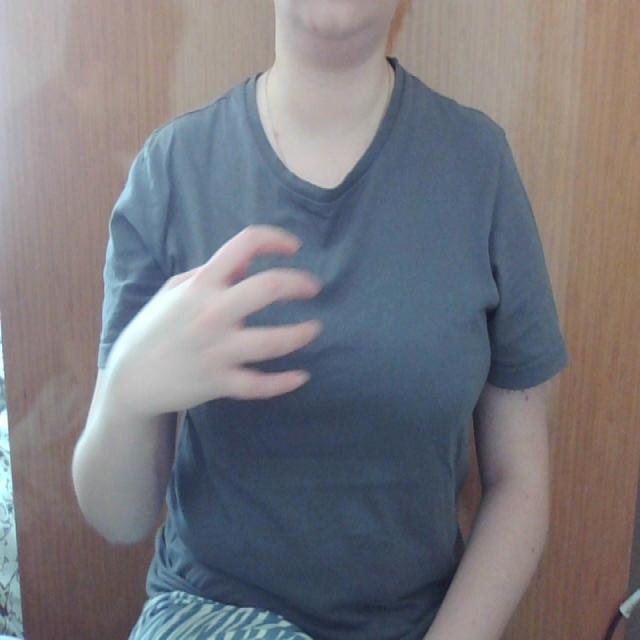Anne: (94, 207, 503, 417)
